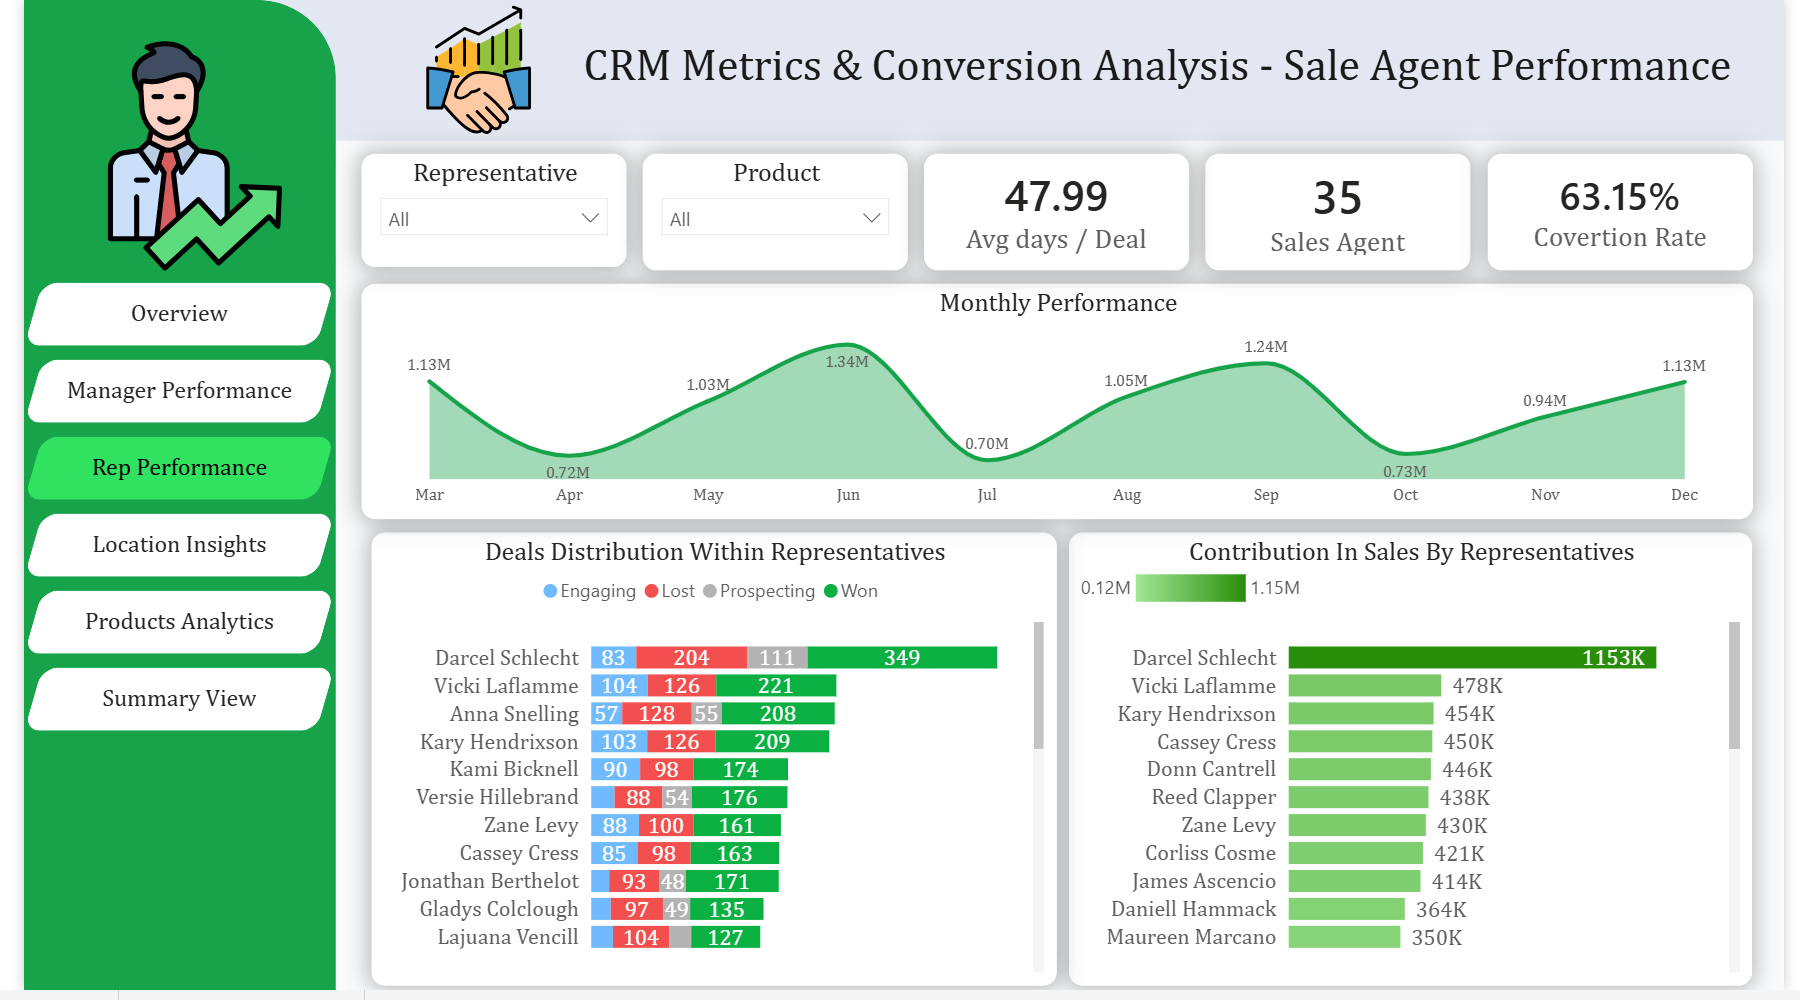

The dashboard page shown, as its layout file describes it:
{"tool":"powerbi","page":{"name":"Sales Agents Performance","canvas":[1280,720],"ordinal":2},"visuals":[{"type":"shape","box":[0,0,1280,102.5],"z":0},{"type":"shape","box":[0,0,226.8,720.2],"z":1000},{"type":"textbox","box":[401.7,26.5,855.4,63.9],"z":2000},{"type":"image","box":[238.9,3.6,183.4,94.1],"z":3000},{"type":"pageNavigator","box":[0,205.1,226.8,331.8],"z":4000},{"type":"clusteredBarChart","title":"Contribution In Sales By Sale Agent","fields":{"Category":["sales_teams.sales_agent"],"Y":["Measures Table.Total Value"]},"box":[760.3,387.3,497.1,329.4],"z":5000},{"type":"barChart","title":"Deals Distribution Over  Sale Agent","fields":{"Y":["CountNonNull(sales_pipeline.opportunity_id)"],"Series":["sales_pipeline.deal_stage"],"Category":["sales_teams.sales_agent"]},"box":[252.4,387.3,498.3,329.4],"z":6000},{"type":"areaChart","title":"Monthly Performance","fields":{"Category":["Calender.Month"],"Y":["Measures Table.Total Value"]},"box":[245.1,206.3,1012.2,171.3],"z":7000},{"type":"slicer","title":"Sale Agent","fields":{"Values":["sales_teams.sales_agent"]},"box":[245.1,112.2,193,82],"z":8000},{"type":"slicer","title":"Product","fields":{"Values":["products.product"]},"box":[449.9,112.2,193,85],"z":9000},{"type":"cardVisual","fields":{"Data":["Measures Table.Total sales agent"]},"box":[859.5,112.2,193,85],"z":10000},{"type":"cardVisual","fields":{"Data":["Measures Table.Avg days taken in Deal"]},"box":[654.7,112.2,193,84.5],"z":11000},{"type":"cardVisual","fields":{"Data":["Measures Table.Covertion Rate"]},"box":[1064.3,112.2,193,84.5],"z":12000},{"type":"image","box":[33.8,29,182.2,168.9],"z":13000}]}

Visuals, with their boxes in screenshot pixels (x1, y1, x2, y2), scaled from the page's 1280x720 canvas onto the 1800x1000 screenshot:
shape: left=0, top=0, right=1799, bottom=142
shape: left=0, top=0, right=319, bottom=999
textbox: left=565, top=37, right=1768, bottom=126
image: left=336, top=5, right=594, bottom=136
pageNavigator: left=0, top=285, right=319, bottom=746
"Contribution In Sales By Sale Agent" clusteredBarChart: left=1069, top=538, right=1768, bottom=995
"Deals Distribution Over  Sale Agent" barChart: left=355, top=538, right=1056, bottom=995
"Monthly Performance" areaChart: left=345, top=287, right=1768, bottom=524
"Sale Agent" slicer: left=345, top=156, right=616, bottom=270
"Product" slicer: left=633, top=156, right=904, bottom=274
cardVisual - Measures Table.Total sales agent: left=1209, top=156, right=1480, bottom=274
cardVisual - Measures Table.Avg days taken in Deal: left=921, top=156, right=1192, bottom=273
cardVisual - Measures Table.Covertion Rate: left=1497, top=156, right=1768, bottom=273
image: left=48, top=40, right=304, bottom=275
